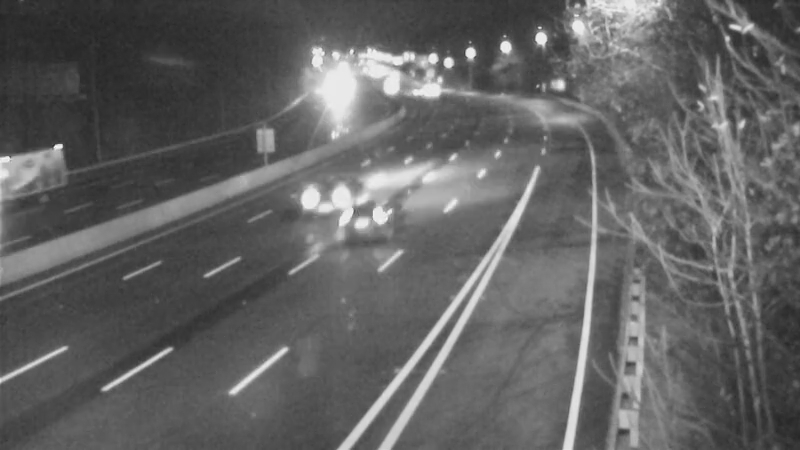vehicle: (297, 156, 377, 236), (336, 180, 416, 260), (1, 140, 77, 220), (405, 63, 455, 113), (381, 64, 431, 114)
